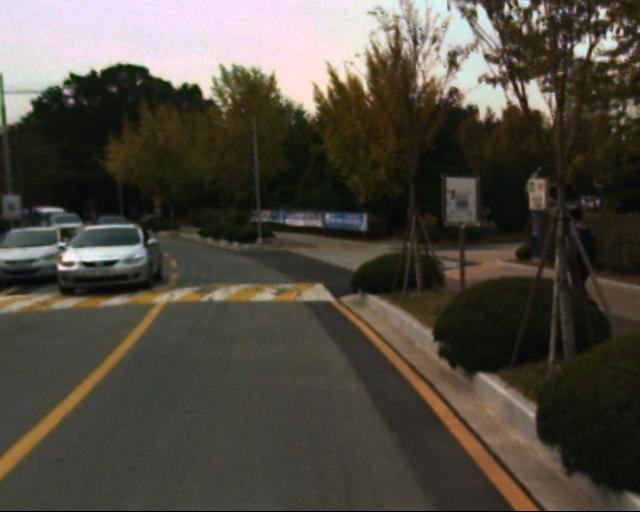person: (568, 209, 599, 310)
